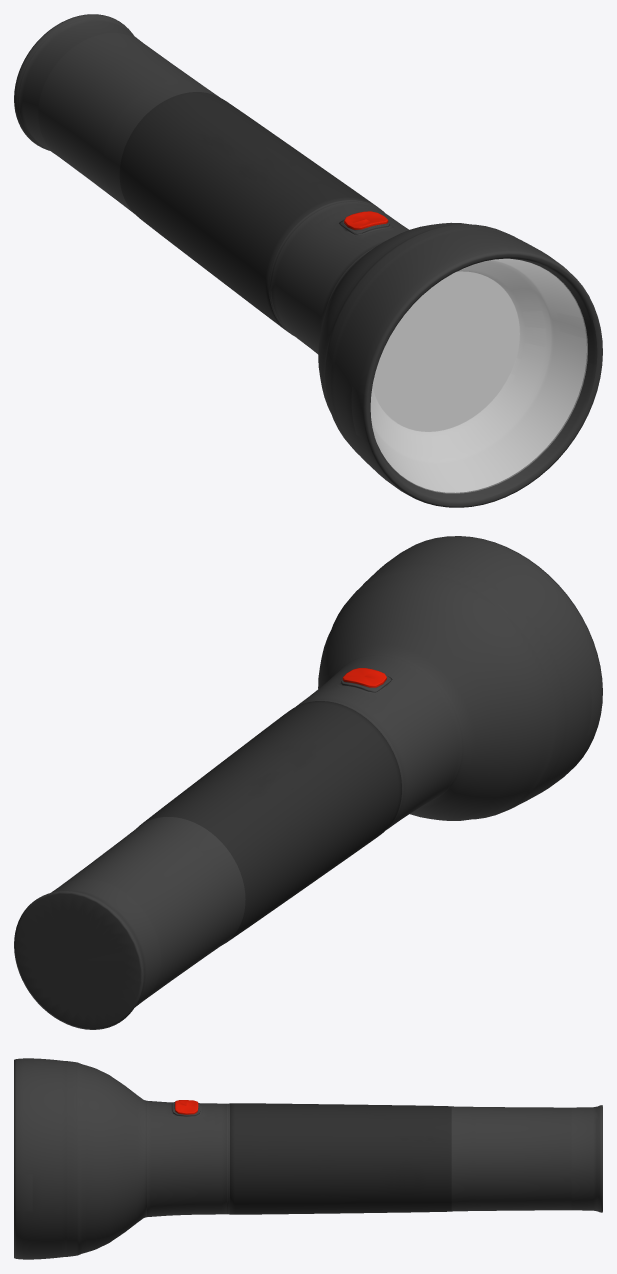
Rendered from flash.glb.
3 views of the same model, one above another, from view 1: azimuth 30°, elevation 25°; view 2: azimuth 150°, elevation 25°; view 3: azimuth 270°, elevation 25° (orthographic). The views are drawn at different scales.
Parts seen in each view (by area): view 1: Cylinder_Material.001_0; view 2: Cylinder_Material.001_0; view 3: Cylinder_Material.001_0.
Boxes of the visible parts, x1,y1,x2,y2 form: Cylinder_Material.001_0: [14, 14, 602, 507]; Cylinder_Material.001_0: [14, 536, 602, 1029]; Cylinder_Material.001_0: [14, 1058, 602, 1259].
Bounding box in the file's own units: 0.0863 × 0.0863 × 0.2525.
5 materials, 1 textured.
